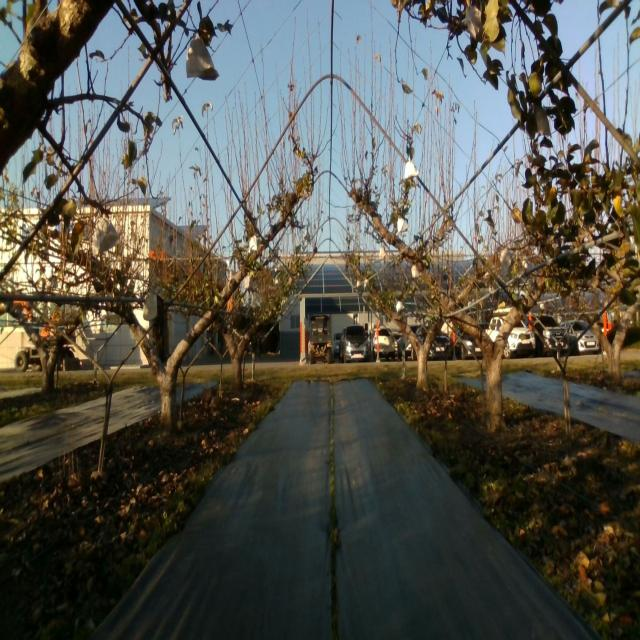pearbags: (186, 34, 220, 81), (92, 216, 120, 259), (464, 0, 483, 41), (530, 106, 554, 138), (500, 250, 515, 276), (404, 155, 419, 180)
